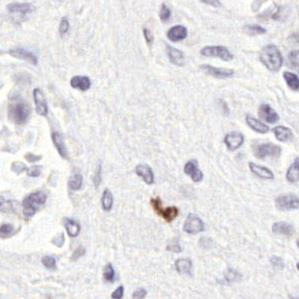Lymphocyte: (150, 196, 179, 222)
